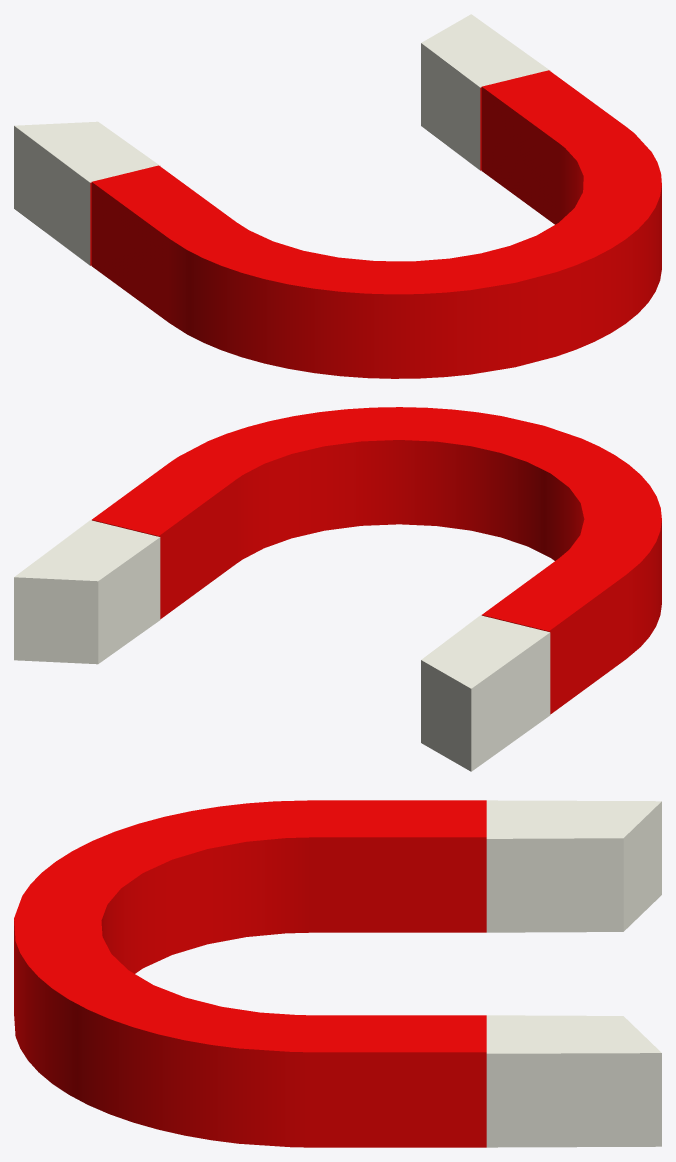
File: Magnet.FBX
The picture shows the model from 3 angles, top to bottom: view 1: azimuth 30°, elevation 25°; view 2: azimuth 150°, elevation 25°; view 3: azimuth 270°, elevation 25°; orthographic projection. The views are drawn at different scales.
Visible parts, largest first — view 1: stitch_result_stitch all; view 2: stitch_result_stitch all; view 3: stitch_result_stitch all.
Boxes of the visible parts, x1,y1,x2,y2 form: stitch_result_stitch all: [14, 14, 661, 378]; stitch_result_stitch all: [14, 407, 661, 771]; stitch_result_stitch all: [14, 800, 661, 1147].
Bounding box in the file's own units: 34.2 × 6 × 36.97.
